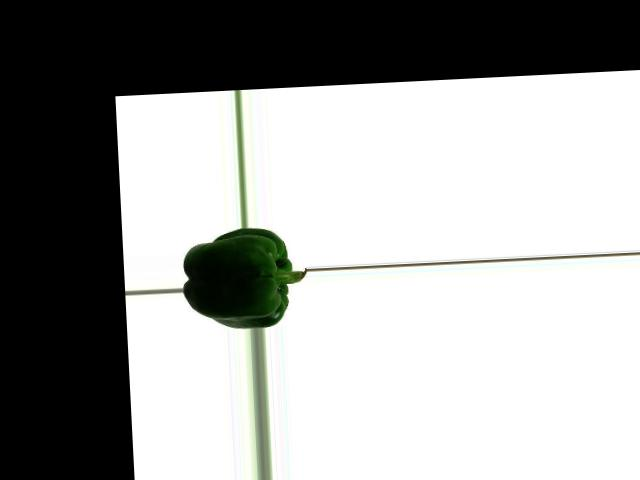bell_pepper: (180, 225, 307, 329)
